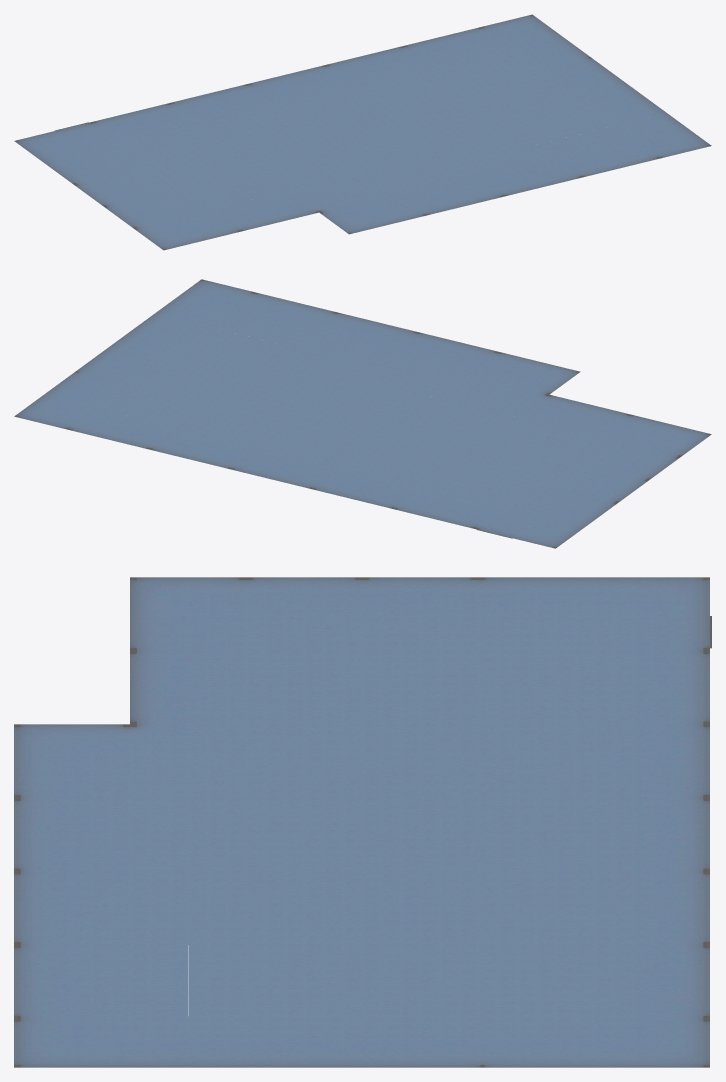
The picture shows the model from 3 angles, top to bottom: view 1: azimuth 30°, elevation 25°; view 2: azimuth 150°, elevation 25°; view 3: azimuth 270°, elevation 25°; orthographic projection. The views are drawn at different scales.
Visible parts, largest first — view 1: HC_2floor_ding_0; view 2: HC_2floor_ding_0; view 3: HC_2floor_ding_0.
Part boxes in pixels (bbox=[...]): HC_2floor_ding_0: bbox=[14, 14, 711, 250]; HC_2floor_ding_0: bbox=[14, 279, 711, 548]; HC_2floor_ding_0: bbox=[14, 577, 711, 1067].
Size of the model in its own units: 6 by 0 by 3.61.
Materials: 1 (1 with a texture image).
